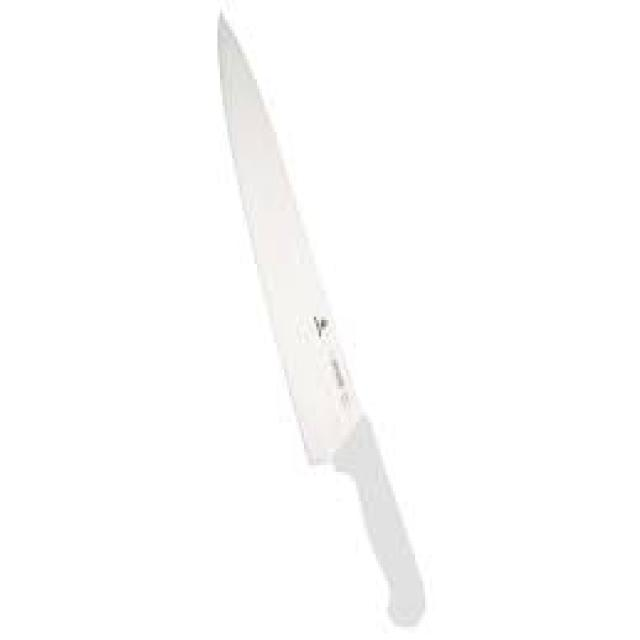Knife: (213, 6, 425, 626)
